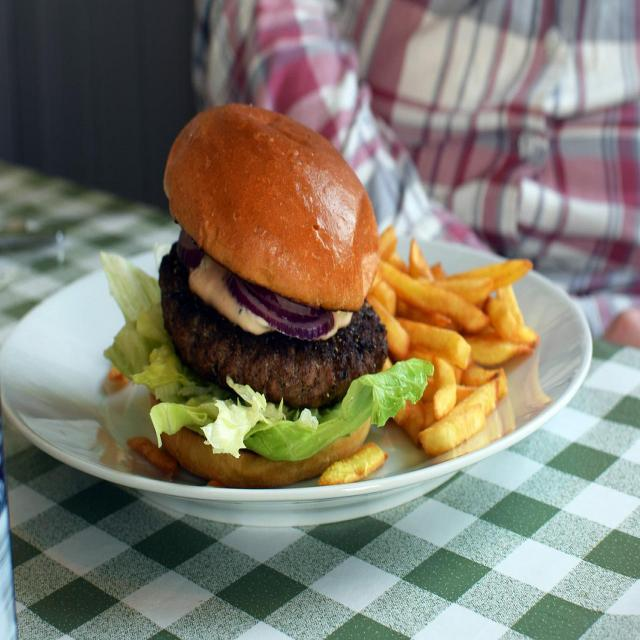Burger: (139, 88, 377, 474)
French Fries: (370, 211, 530, 474)
